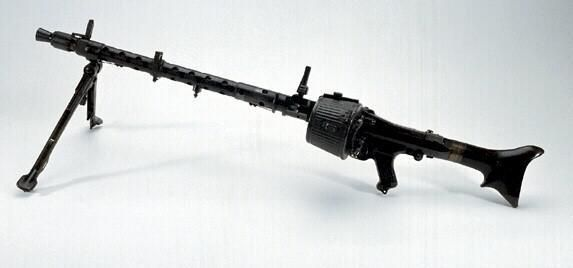gun: (22, 19, 536, 199)
